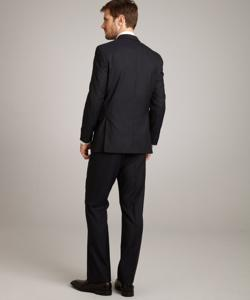F_M_suit jacket: (75, 35, 168, 152)
F_dress pants: (84, 147, 148, 283)
F_dress shoes: (67, 277, 116, 298), (114, 275, 138, 297)
